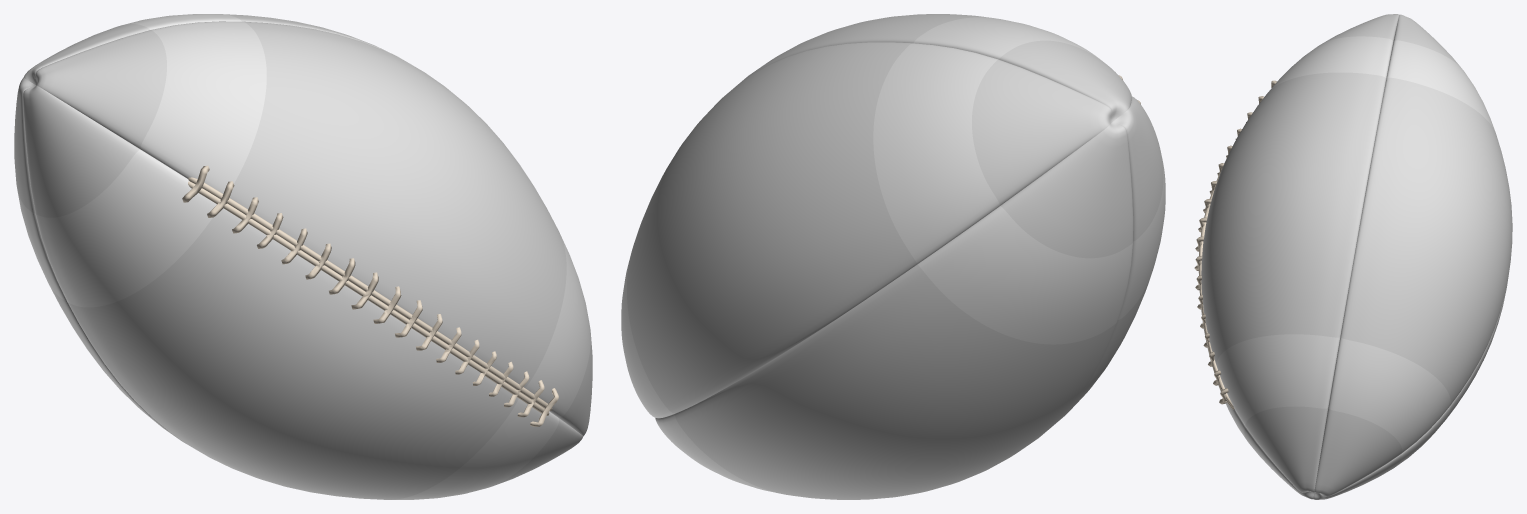
File: American_Football_ball.fbx
The picture shows the model from 3 angles, left to right: view 1: azimuth 30°, elevation 25°; view 2: azimuth 150°, elevation 25°; view 3: azimuth 270°, elevation 25°; orthographic projection. The views are drawn at different scales.
Visible parts, largest first — view 1: American Football ball 1, American Football ball 2; view 2: American Football ball 1; view 3: American Football ball 1, American Football ball 2.
Part boxes in pixels (x1=…): American Football ball 1: x1=14, y1=14, x2=592, y2=499; American Football ball 2: x1=182, y1=165, x2=558, y2=426; American Football ball 1: x1=621, y1=14, x2=1165, y2=499; American Football ball 1: x1=1201, y1=14, x2=1512, y2=499; American Football ball 2: x1=1194, y1=80, x2=1276, y2=409.
Bounding box in the file's own units: 24.9 × 22.77 × 18.84.
